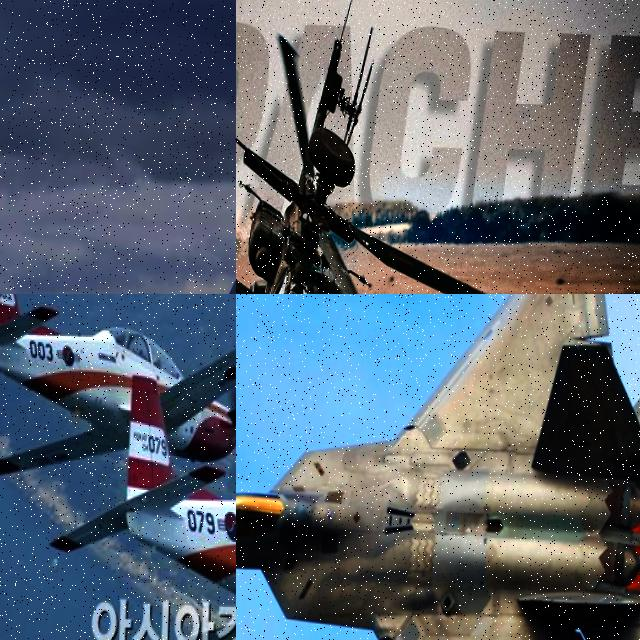A380: (0, 200, 236, 294)
Apache: (236, 0, 581, 294)
F22: (236, 294, 640, 640)
KT-1: (46, 375, 236, 640), (0, 294, 236, 465)
